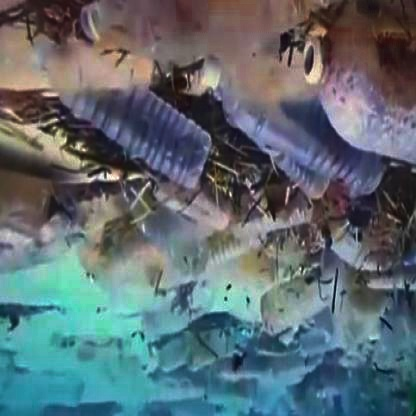pbottle: (210, 59, 388, 217), (57, 48, 218, 204), (310, 31, 416, 211), (79, 2, 315, 70), (184, 184, 308, 276)
